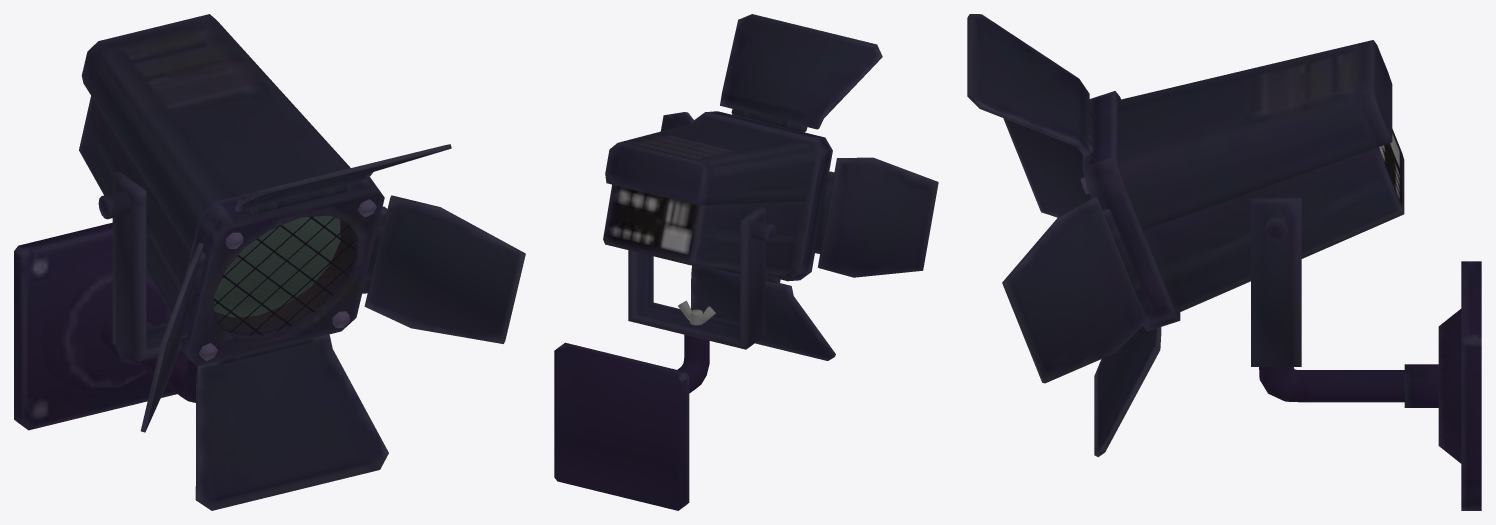
The picture shows the model from 3 angles, left to right: view 1: azimuth 30°, elevation 25°; view 2: azimuth 150°, elevation 25°; view 3: azimuth 270°, elevation 25°; orthographic projection. The views are drawn at different scales.
Size of the model in its own units: 6.58 by 7.39 by 8.21.
Materials: 2 (2 with a texture image).
